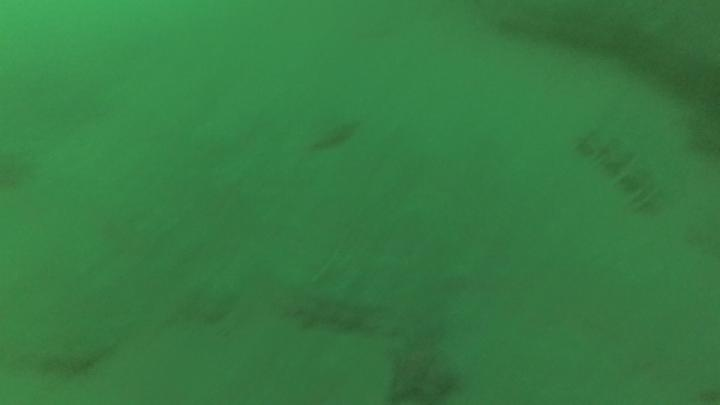holothurian: (573, 124, 669, 215)
